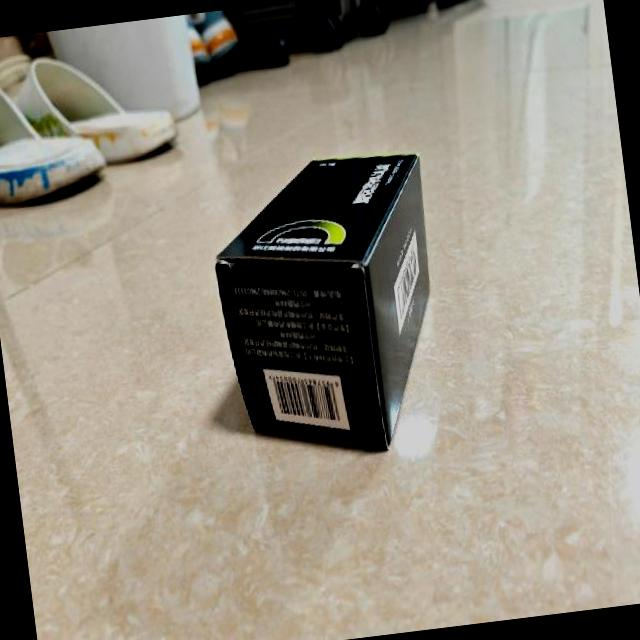box: (202, 144, 455, 467)
